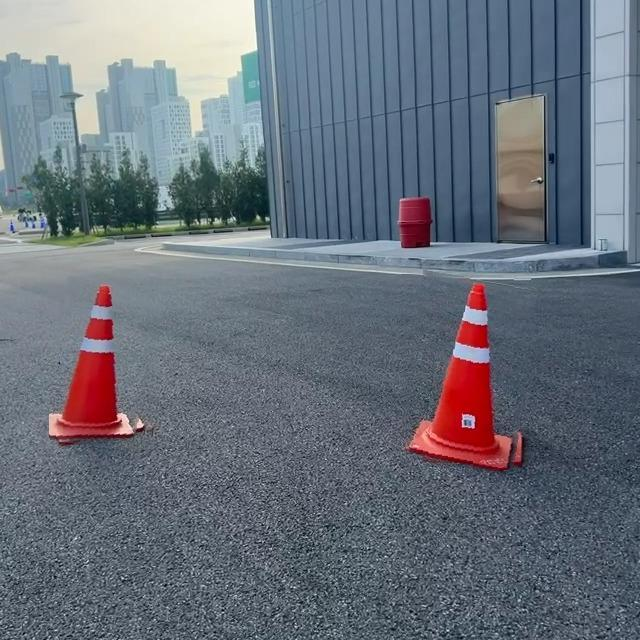fallen_object: (409, 260, 554, 523), (15, 277, 179, 457)
